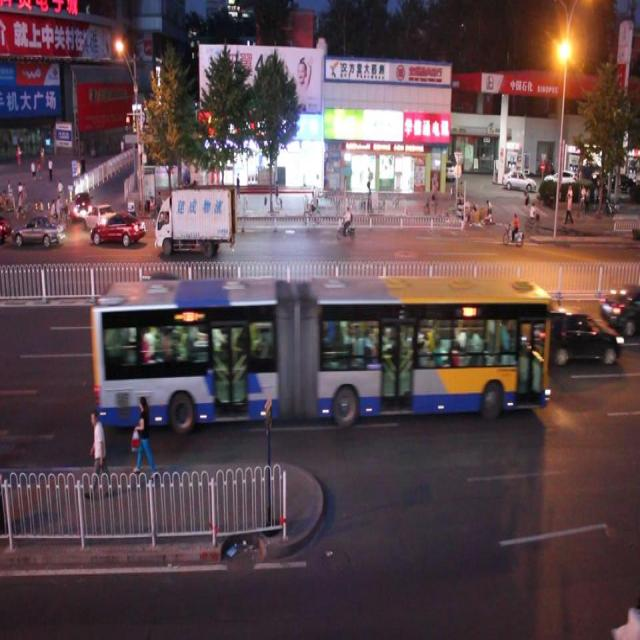bus: (153, 187, 237, 255)
car: (528, 304, 619, 370), (166, 185, 223, 232), (598, 281, 640, 336), (11, 202, 65, 241), (90, 210, 145, 245), (85, 200, 118, 232), (71, 189, 93, 223)
van: (91, 276, 544, 418)
